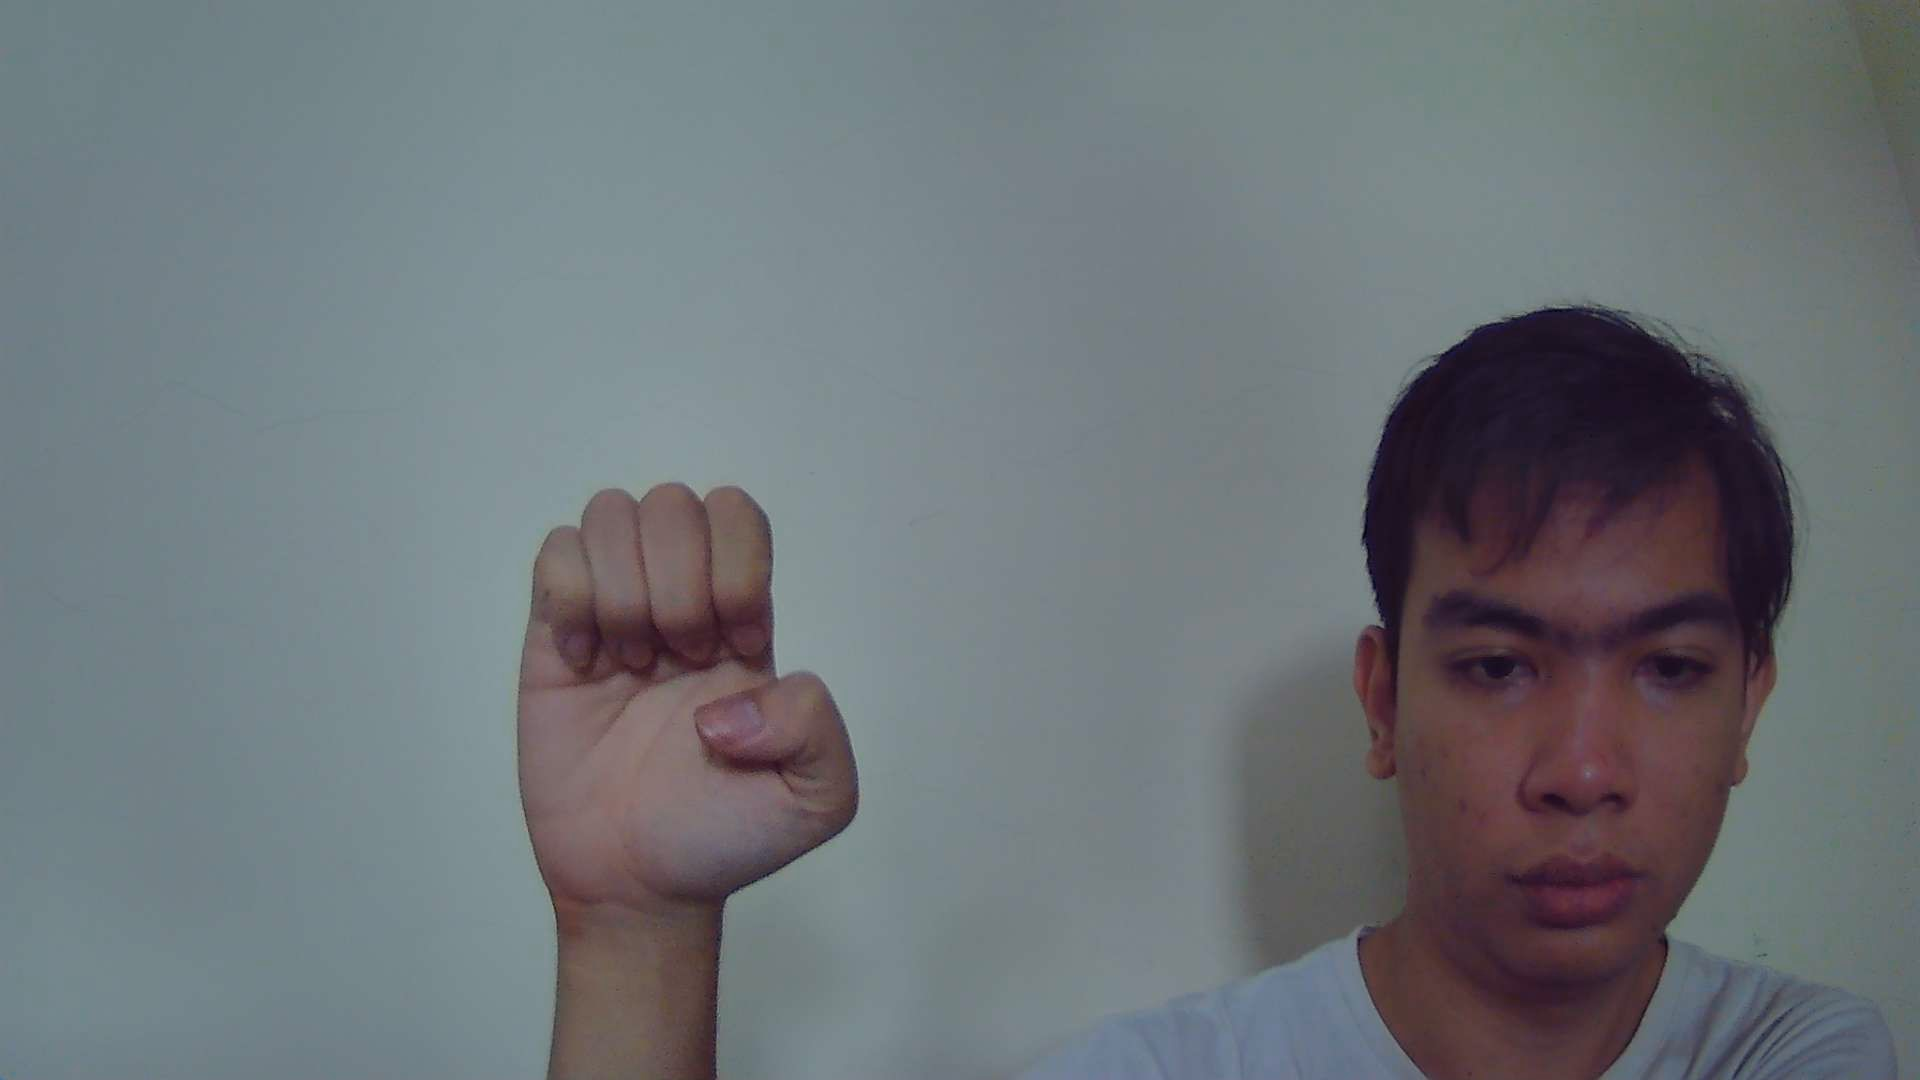e: (512, 475, 865, 862)
